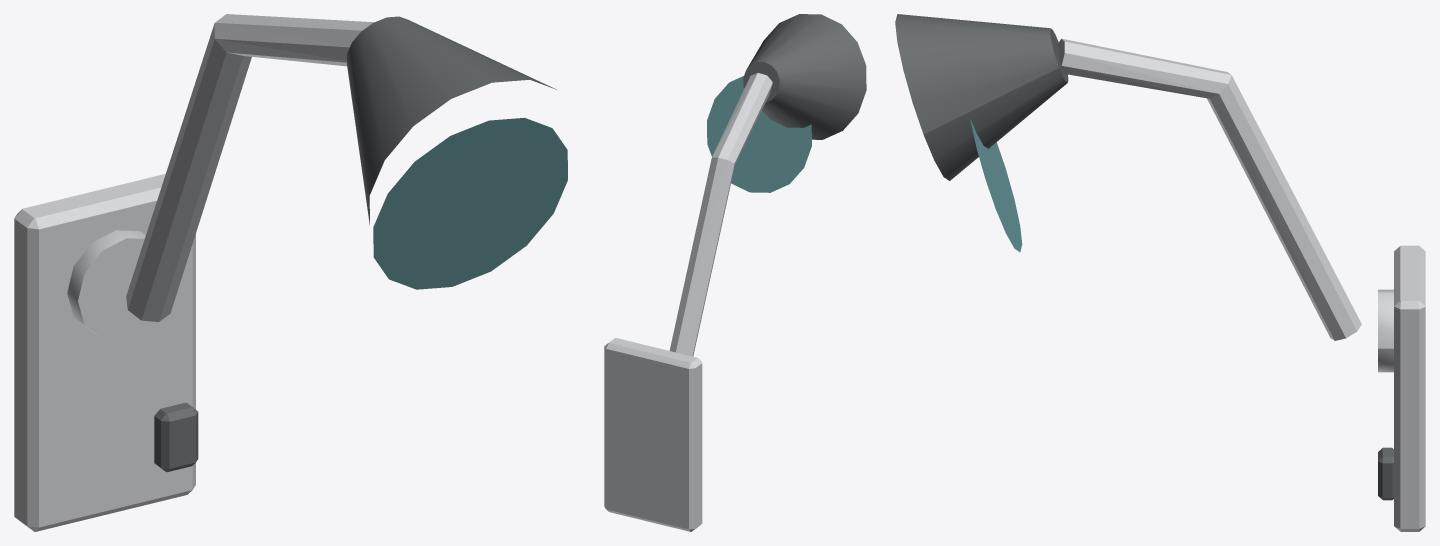
The model's file is hotel-and-resort-operations-bedside-reading-light-ceeab0d5__25772.glb.
3 renders of one model, left to right at view 1: azimuth 30°, elevation 25°; view 2: azimuth 150°, elevation 25°; view 3: azimuth 270°, elevation 25°, orthographic. The views are drawn at different scales.
Visible parts, largest first — view 1: bedside-reading-light; view 2: bedside-reading-light; view 3: bedside-reading-light.
Part boxes in pixels (bbox=[...]): bedside-reading-light: bbox=[14, 14, 567, 531]; bedside-reading-light: bbox=[604, 14, 866, 531]; bedside-reading-light: bbox=[895, 14, 1425, 531].
Size of the model in its own units: 0.142 by 0.343 by 0.3329.
